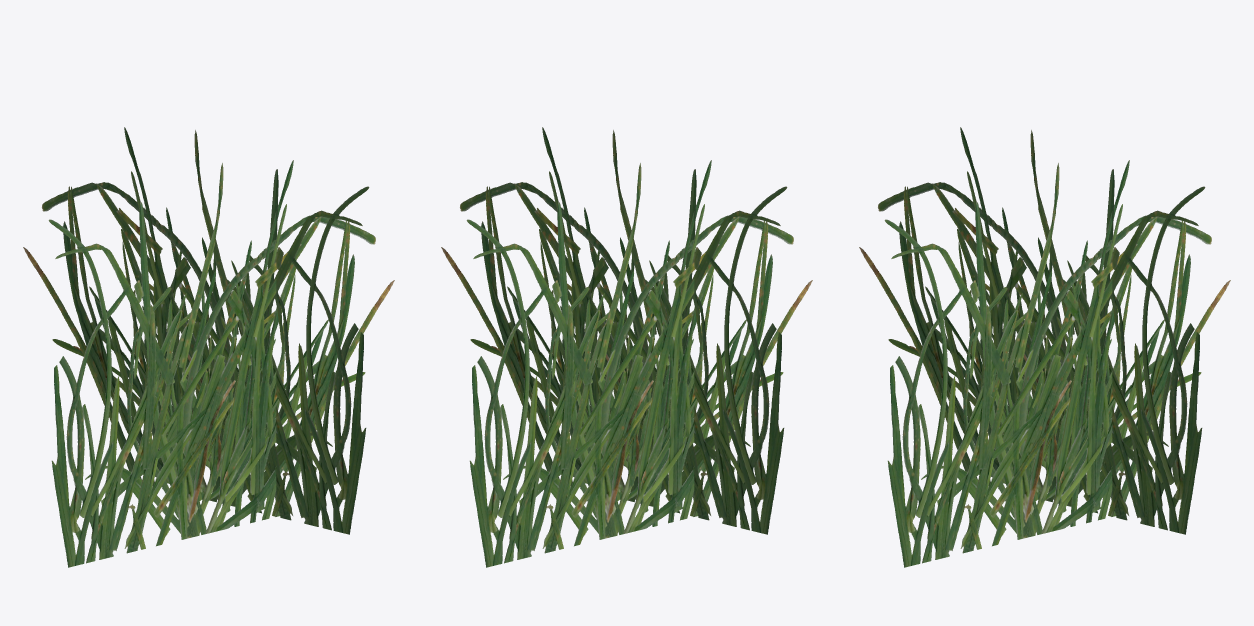
Rendered from GrassBillboard.fbx.
3 renders of one model, left to right at view 1: azimuth 30°, elevation 25°; view 2: azimuth 150°, elevation 25°; view 3: azimuth 270°, elevation 25°, orthographic.
Parts seen in each view (by area): view 1: GrassModel; view 2: GrassModel; view 3: GrassModel.
Part boxes in pixels (x1,y1,x2,y2): GrassModel: (23, 127, 394, 567); GrassModel: (441, 127, 812, 567); GrassModel: (859, 127, 1230, 567).
Bounding box in the file's own units: 1 × 1 × 0.866.
